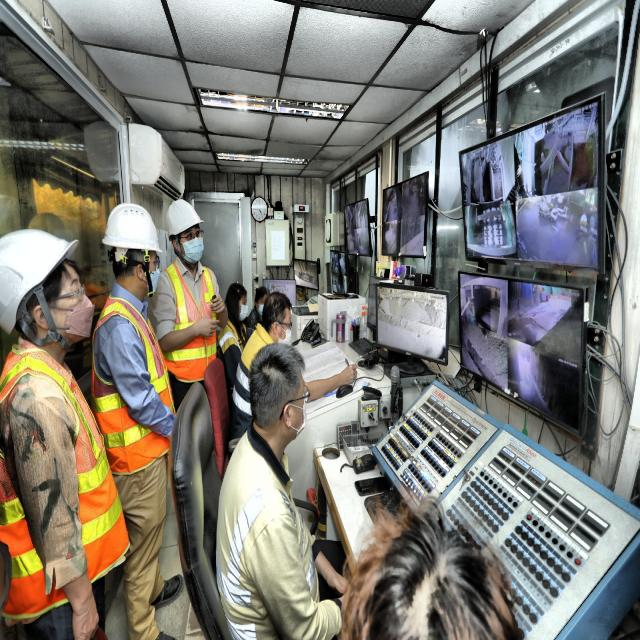safety_helmet: (1, 225, 82, 339), (100, 198, 163, 258), (164, 197, 208, 269)
safety_jacket: (0, 340, 134, 617), (87, 298, 175, 481), (150, 261, 227, 407)
